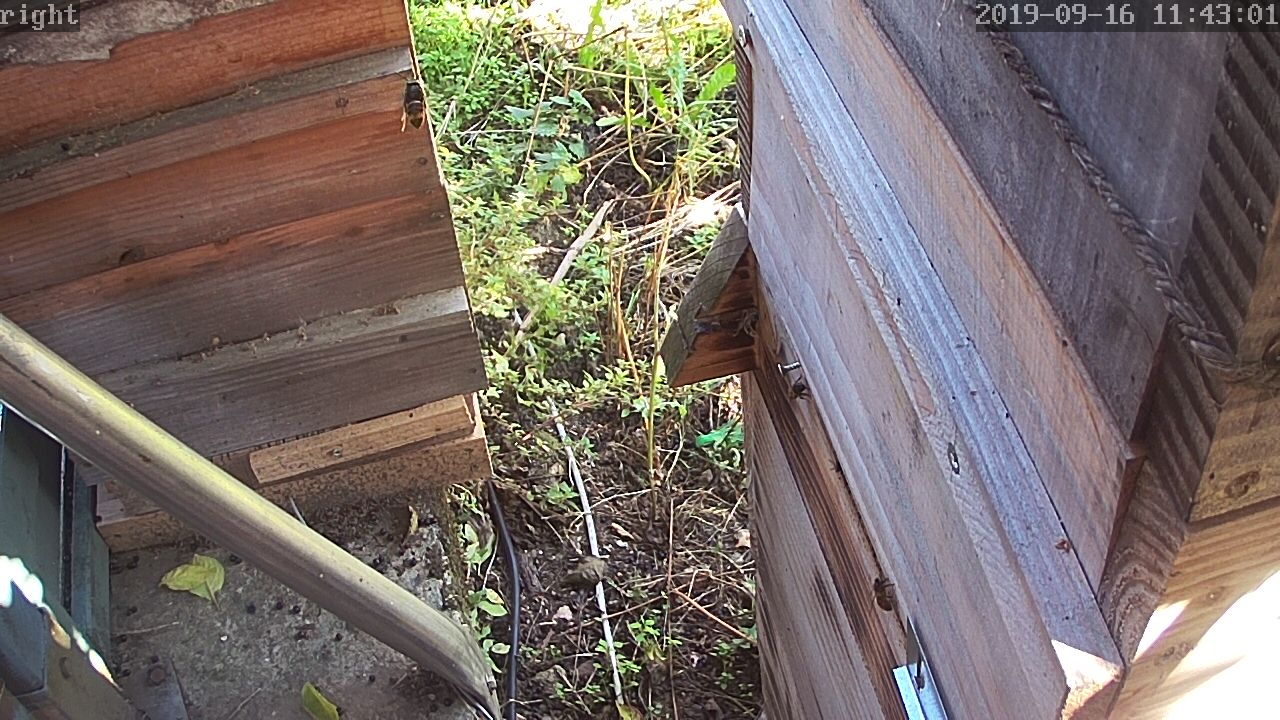bee: (865, 572, 897, 614), (784, 378, 817, 405)
hornet: (393, 71, 434, 130)
